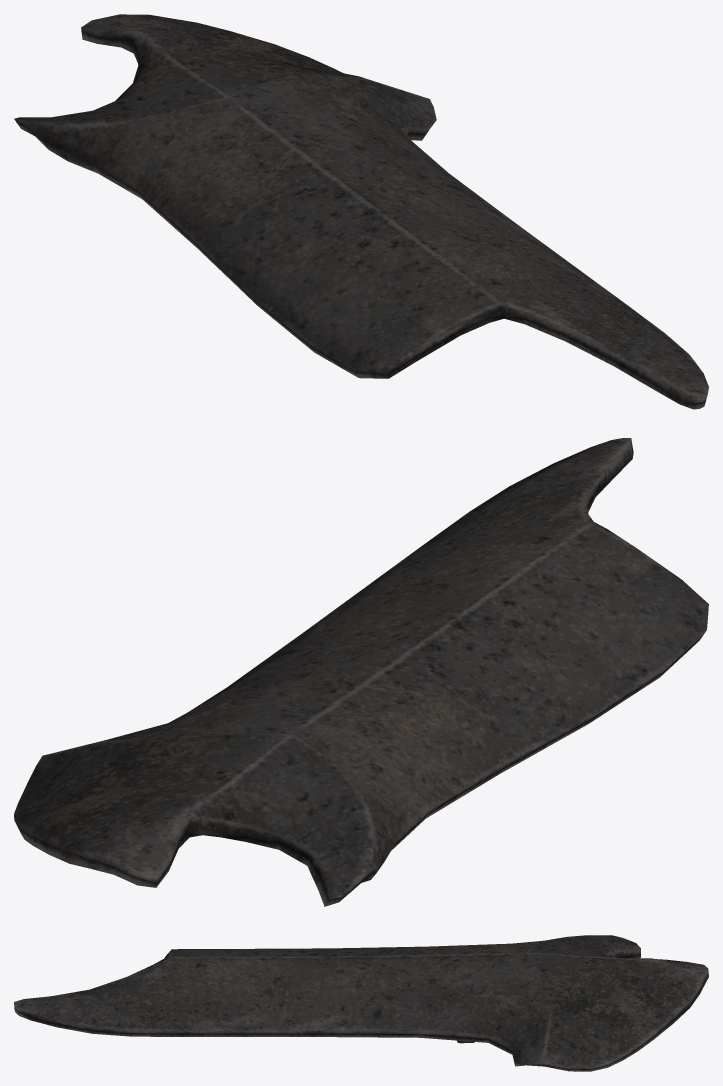
File: wm_gundabad_shield_a01.fbx
3 views of the same model, one above another, from view 1: azimuth 30°, elevation 25°; view 2: azimuth 150°, elevation 25°; view 3: azimuth 270°, elevation 25° (orthographic). The views are drawn at different scales.
Visible parts, largest first — view 1: wm_gundabad_shield_a01; view 2: wm_gundabad_shield_a01; view 3: wm_gundabad_shield_a01.
Boxes of the visible parts, bbox=[...] form: wm_gundabad_shield_a01: bbox=[14, 14, 708, 409]; wm_gundabad_shield_a01: bbox=[14, 438, 708, 906]; wm_gundabad_shield_a01: bbox=[14, 935, 708, 1071].
Size of the model in its own units: 0.3782 by 0.9797 by 0.127.
1 material, 1 textured.
